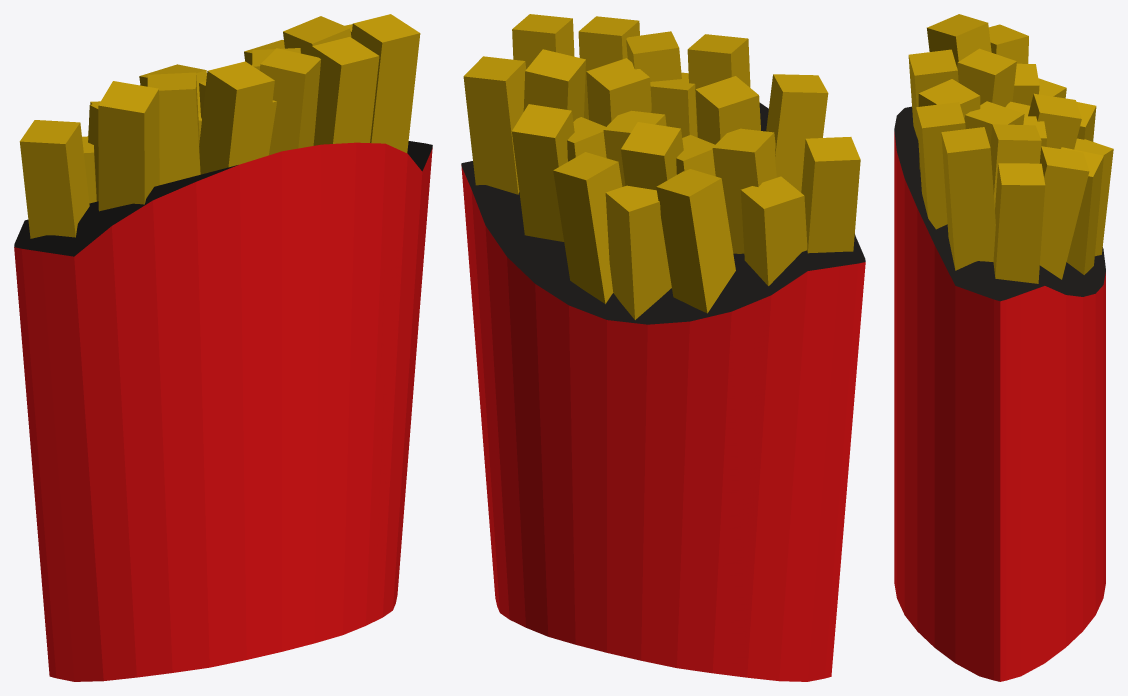
Rendered from FriesPacked.obj.
3 renders of one model, left to right at view 1: azimuth 30°, elevation 25°; view 2: azimuth 150°, elevation 25°; view 3: azimuth 270°, elevation 25°, orthographic. The views are drawn at different scales.
Visible parts, largest first — view 1: Cylinder, Cube.014, Cube.017, Cube.009, Cube.001, Cube.002, Cube.006, Cube.012, Cube, Cube.011, Cube.015, Cube.018; view 2: Cylinder, Cube.016, Cube.008, Cube.019, Cube.020, Cube.017, Cube.003, Cube.018, Cube.014, Cube.015, Cube.011, Cube.012 (+10 smaller); view 3: Cylinder, Cube.002, Cube.020, Cube.003, Cube.001, Cube.012, Cube.008, Cube.014, Cube, Cube.011, Cube.009, Cube.006 (+6 smaller).
Part boxes in pixels (<box>): Cylinder: <box>14,141,432,681</box>; Cube.014: <box>98,81,159,211</box>; Cube.017: <box>19,120,89,238</box>; Cube.009: <box>199,61,274,174</box>; Cube.001: <box>311,37,379,145</box>; Cube.002: <box>351,14,420,152</box>; Cube.006: <box>259,48,320,155</box>; Cube.012: <box>147,72,200,184</box>; Cube: <box>283,16,351,55</box>; Cube.011: <box>139,64,206,116</box>; Cube.015: <box>88,103,99,201</box>; Cube.018: <box>82,136,96,203</box>; Cylinder: <box>461,103,865,681</box>; Cube.016: <box>656,169,735,313</box>; Cube.008: <box>553,152,622,303</box>; Cube.019: <box>605,185,671,319</box>; Cube.020: <box>463,56,526,194</box>; Cube.017: <box>801,137,860,253</box>; Cube.003: <box>512,104,574,241</box>; Cube.018: <box>740,176,807,285</box>; Cube.014: <box>766,74,828,192</box>; Cube.015: <box>712,128,776,253</box>; Cube.011: <box>621,122,683,190</box>; Cube.012: <box>695,76,760,144</box>; Cylinder: <box>894,106,1105,681</box>; Cube.002: <box>941,127,995,270</box>; Cube.020: <box>993,163,1045,283</box>; Cube.003: <box>1039,146,1089,279</box>; Cube.001: <box>916,102,965,229</box>; Cube.012: <box>957,48,1016,106</box>; Cube.008: <box>1061,147,1103,274</box>; Cube.014: <box>927,14,991,66</box>; Cube: <box>990,124,1041,208</box>; Cube.011: <box>1028,93,1081,149</box>; Cube.009: <box>908,49,958,139</box>; Cube.006: <box>918,79,980,169</box>.
Size of the model in its own units: 2 by 2.71 by 1.
